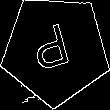P_S: (32, 20, 79, 79)
